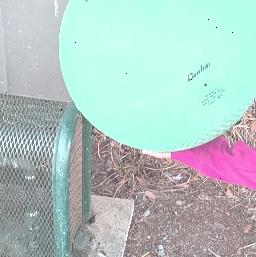algae: (52, 0, 256, 152)
